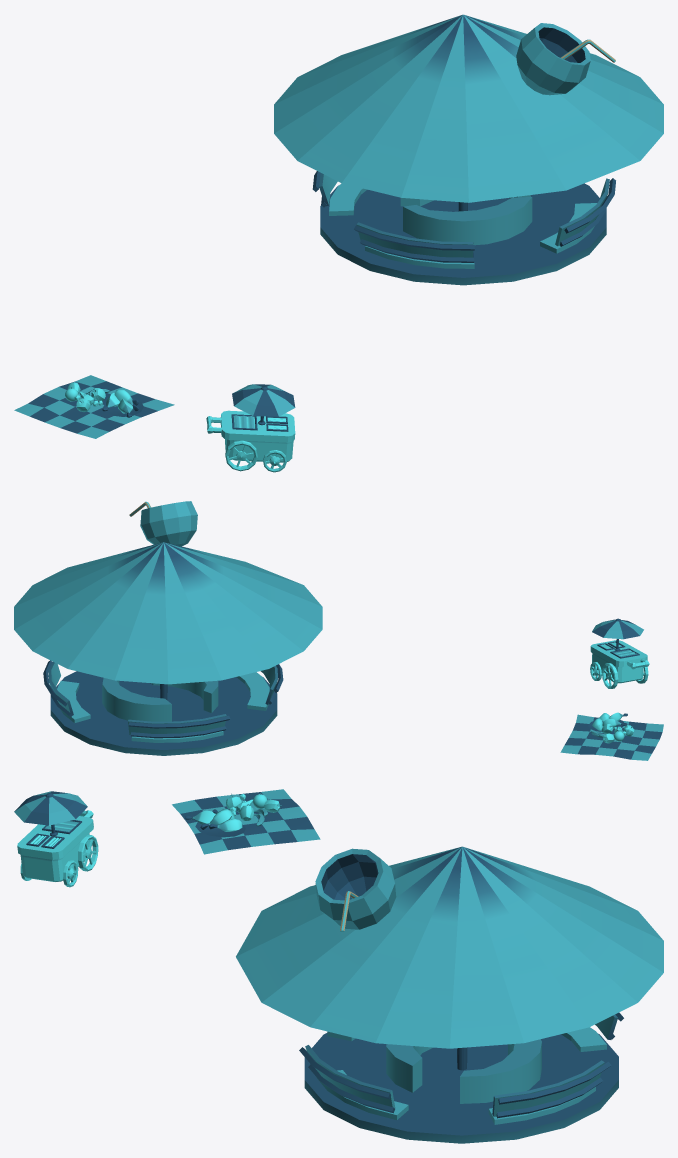
Rendered from Chill_Place_LV4.FBX.
3 views of the same model, one above another, from view 1: azimuth 30°, elevation 25°; view 2: azimuth 150°, elevation 25°; view 3: azimuth 270°, elevation 25° (orthographic). The views are drawn at different scales.
Visible parts, largest first — view 1: Chill_Place_LV4; view 2: Chill_Place_LV4; view 3: Chill_Place_LV4.
Boxes of the visible parts, <box> form: Chill_Place_LV4: <box>14,14,663,472</box>; Chill_Place_LV4: <box>14,501,663,760</box>; Chill_Place_LV4: <box>14,789,663,1143</box>.
Size of the model in its own units: 31.16 by 9.75 by 22.75.
